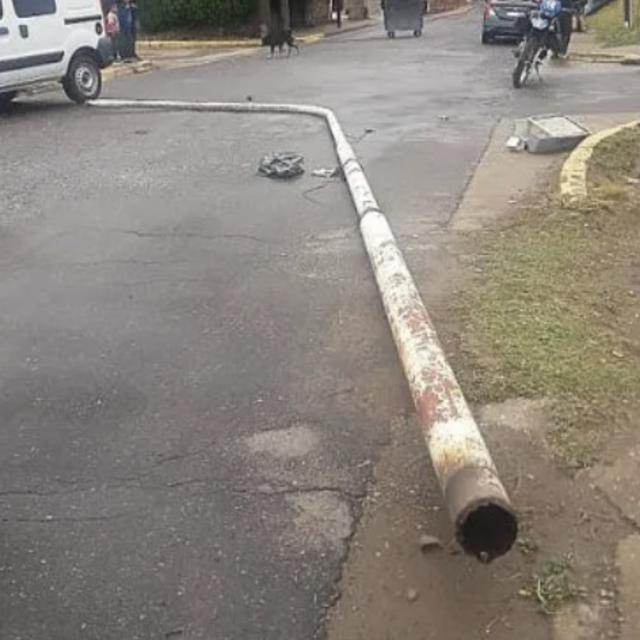Inclined Pole: (82, 95, 521, 565)
